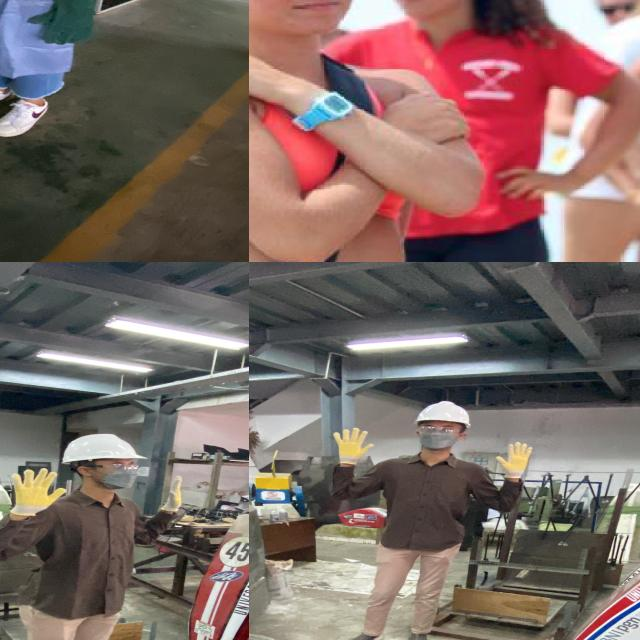face_mask: (88, 457, 146, 491), (417, 424, 462, 449)
face_nomask: (252, 0, 358, 23), (389, 0, 445, 14)
glasses: (414, 422, 464, 436), (92, 461, 144, 472)
hand_glove: (24, 2, 100, 47), (5, 465, 70, 514), (327, 426, 376, 460), (494, 440, 540, 474), (158, 473, 192, 513)
hand_noglove: (399, 88, 476, 145), (496, 162, 565, 203)
head_helmet: (58, 433, 153, 464), (411, 400, 473, 426)
person: (370, 0, 624, 262), (322, 400, 538, 640), (249, 0, 442, 262), (0, 426, 192, 640), (0, 0, 121, 138)
shoes: (0, 92, 57, 140), (336, 627, 386, 640), (0, 81, 17, 119), (398, 628, 432, 640)
